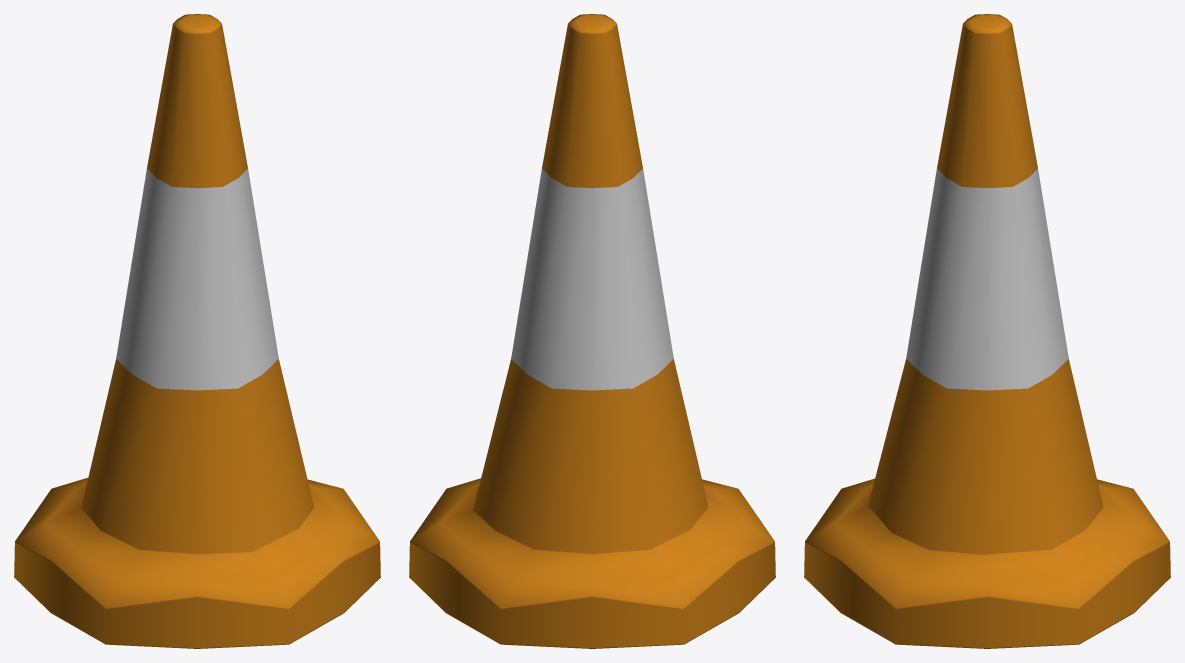
The picture shows the model from 3 angles, left to right: view 1: azimuth 30°, elevation 25°; view 2: azimuth 150°, elevation 25°; view 3: azimuth 270°, elevation 25°; orthographic projection.
Parts seen in each view (by area): view 1: Cylinder; view 2: Cylinder; view 3: Cylinder.
Boxes of the visible parts, x1,y1,x2,y2 form: Cylinder: [14, 14, 380, 648]; Cylinder: [409, 14, 775, 648]; Cylinder: [804, 14, 1170, 648].
Bounding box in the file's own units: 33.04 × 59.86 × 35.77.
